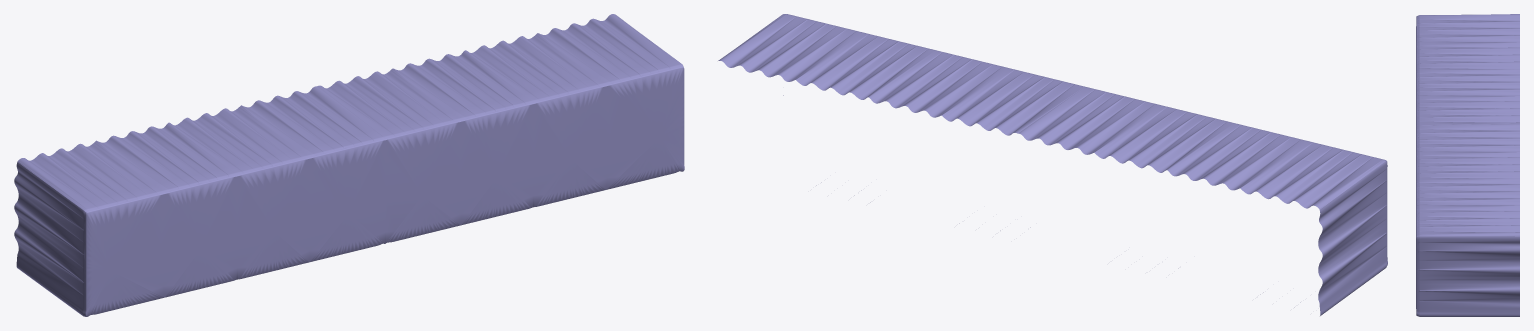
The model's file is 入口坐凳.gltf.
3 views of the same model, side by side, from view 1: azimuth 30°, elevation 25°; view 2: azimuth 150°, elevation 25°; view 3: azimuth 270°, elevation 25° (orthographic). The views are drawn at different scales.
Parts seen in each view (by area): view 1: 入口坐凳; view 2: 入口坐凳; view 3: 入口坐凳.
Part boxes in pixels (x1=…): 入口坐凳: x1=14, y1=14, x2=684, y2=316; 入口坐凳: x1=718, y1=14, x2=1387, y2=315; 入口坐凳: x1=1416, y1=14, x2=1519, y2=316.
Size of the model in its own units: 14.77 by 2.6 by 2.89.
